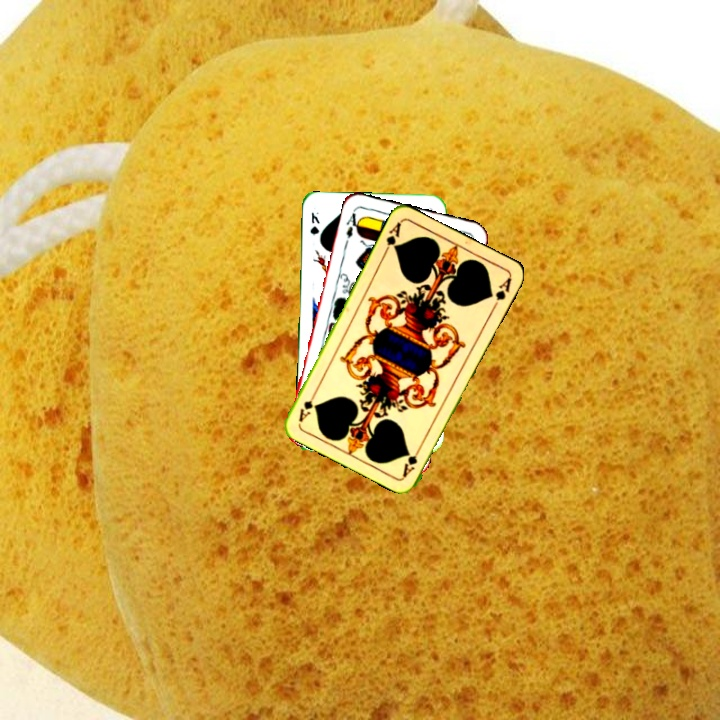EA: (342, 206, 364, 241)
GA: (398, 441, 425, 479), (380, 218, 404, 257)
GK: (306, 208, 322, 237)
